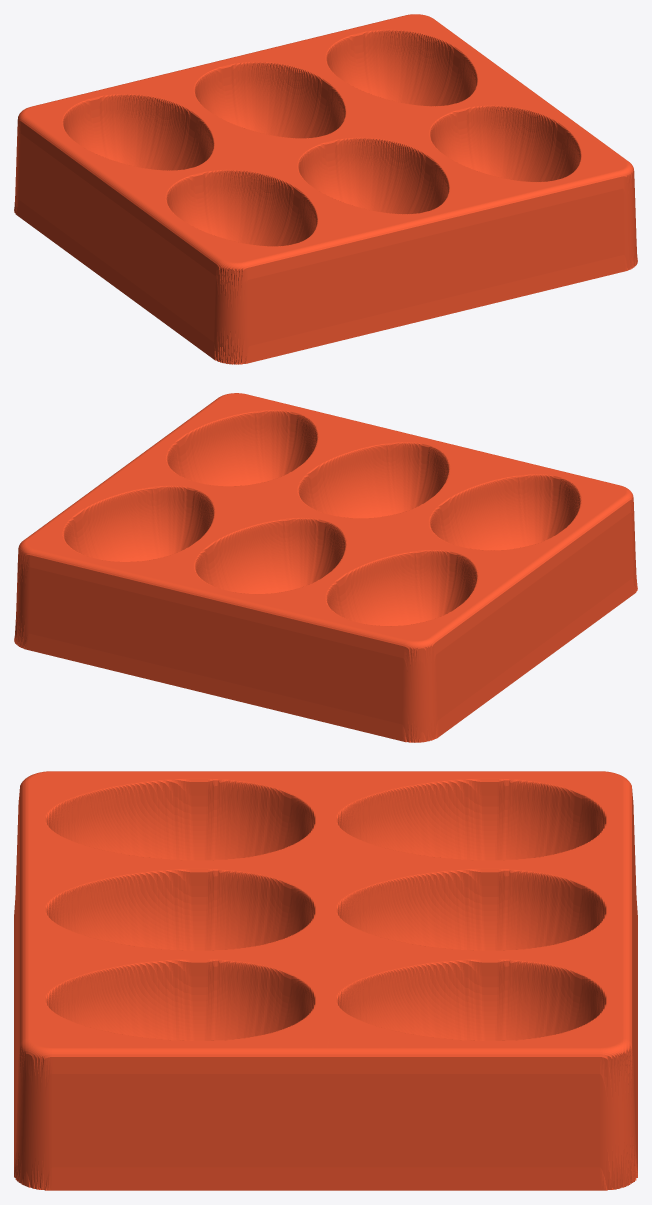
File: mold.glb
3 views of the same model, one above another, from view 1: azimuth 30°, elevation 25°; view 2: azimuth 150°, elevation 25°; view 3: azimuth 270°, elevation 25° (orthographic). The views are drawn at different scales.
Visible parts, largest first — view 1: geometry_0; view 2: geometry_0; view 3: geometry_0.
Part boxes in pixels (x1=…): geometry_0: x1=14, y1=14, x2=637, y2=364; geometry_0: x1=14, y1=393, x2=637, y2=742; geometry_0: x1=14, y1=771, x2=637, y2=1190.
Bounding box in the file's own units: 0.1633 × 0.036 × 0.1492.
